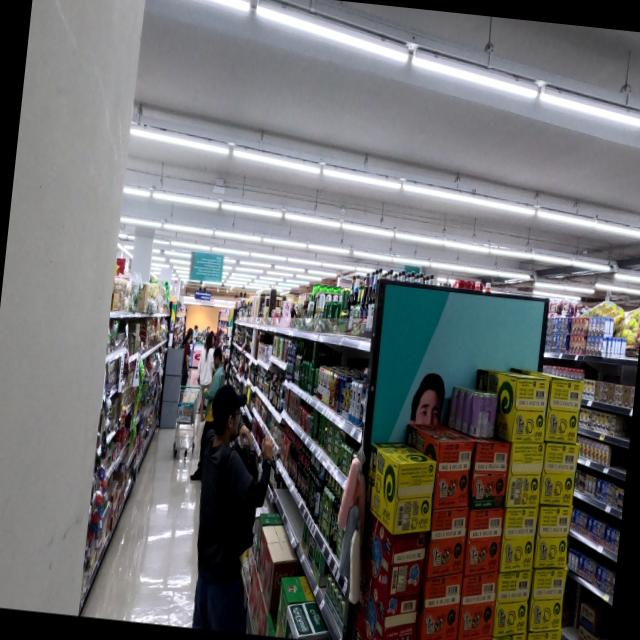shoplifting: (182, 378, 286, 636)
